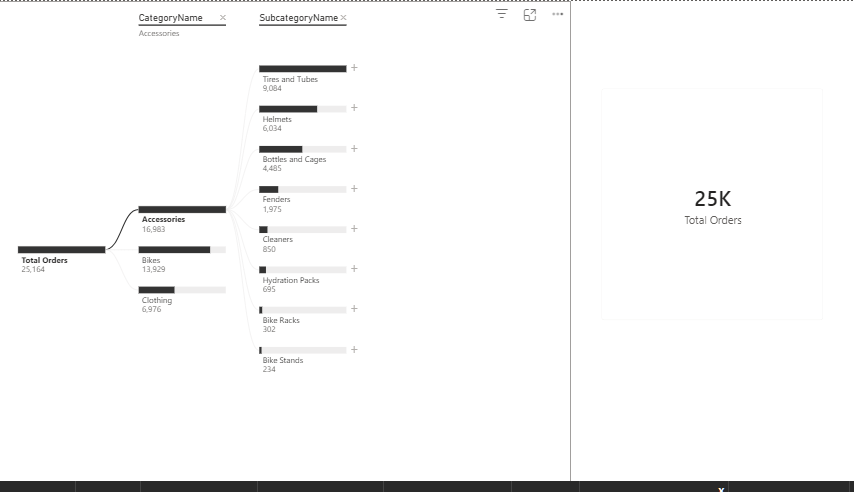

The page's visual inventory and layout, read from the dashboard file:
{"tool":"powerbi","page":{"name":"Decomposition Tree","canvas":[1280,720],"ordinal":6},"visuals":[{"type":"decompositionTreeVisual","fields":{"Analyze":["Measure Table.Total Orders"],"ExplainBy":["Product Categories Lookup.CategoryName","Product Subcategories Lookup.SubcategoryName","Product Lookup.ProductName"]},"box":[0,0,855.6,720.6],"z":0},{"type":"cardVisual","fields":{"Data":["Measure Table.Total Orders"]},"box":[884.1,112.7,365.1,381],"z":1000}]}

Visuals, with their boxes in screenshot pixels (x1, y1, x2, y2), scaled from the page's 1280x720 canvas onto the 854x492 screenshot:
decompositionTreeVisual - Measure Table.Total Orders x Product Categories Lookup.CategoryName: [0, 0, 571, 491]
cardVisual - Measure Table.Total Orders: [590, 77, 833, 337]
